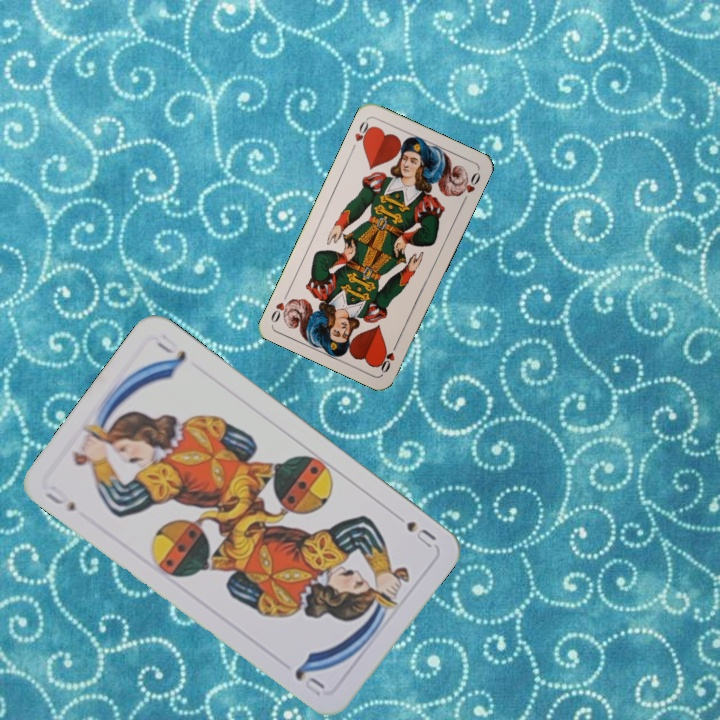HO: (347, 115, 375, 154), (375, 337, 401, 376)
SU: (387, 508, 439, 551), (41, 481, 78, 514)
